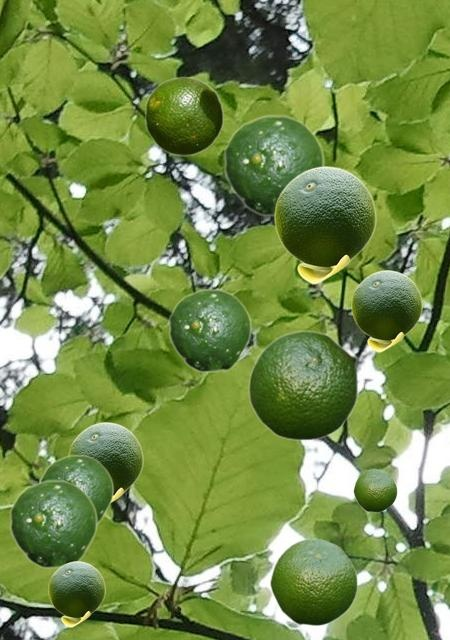calamansi: (248, 330, 358, 440), (274, 166, 375, 283), (223, 114, 324, 216), (9, 479, 97, 568), (269, 537, 357, 625), (168, 288, 251, 372), (144, 76, 223, 155), (68, 422, 142, 502), (351, 270, 421, 351), (39, 454, 113, 524), (48, 561, 104, 626), (353, 468, 396, 511)
